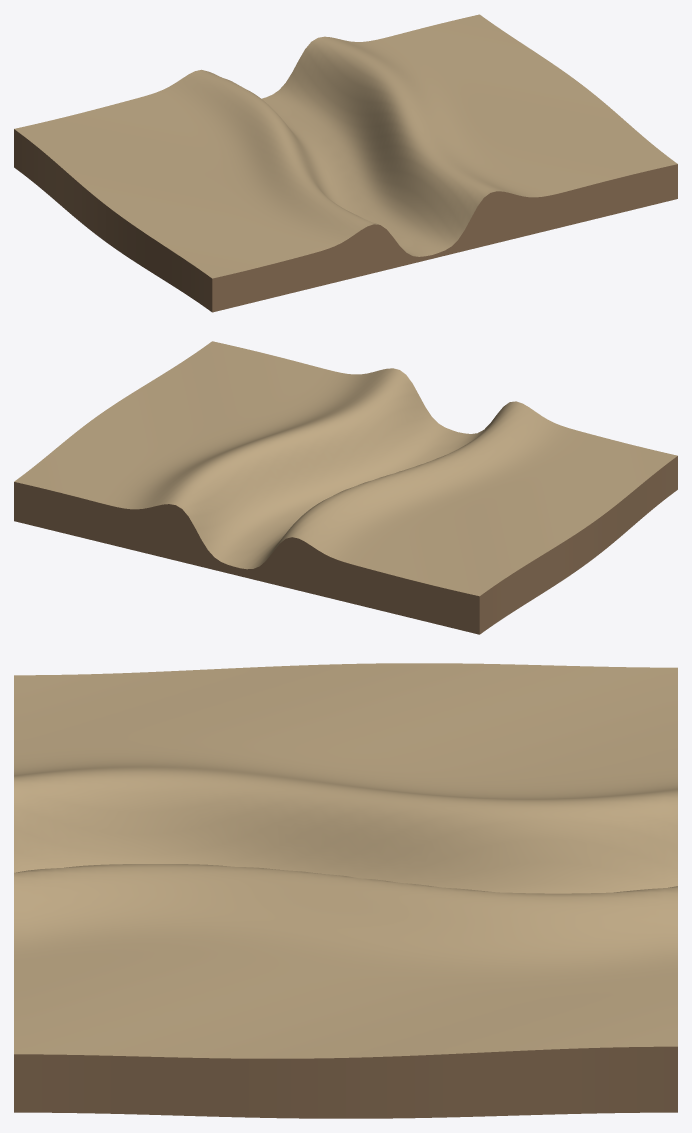
Rendered from natural-levee.glb.
3 views of the same model, one above another, from view 1: azimuth 30°, elevation 25°; view 2: azimuth 150°, elevation 25°; view 3: azimuth 270°, elevation 25° (orthographic). The views are drawn at different scales.
Visible parts, largest first — view 1: Continuous channel levees and backplain sediment crop; view 2: Continuous channel levees and backplain sediment crop; view 3: Continuous channel levees and backplain sediment crop.
Boxes of the visible parts, x1,y1,x2,y2 form: Continuous channel levees and backplain sediment crop: [14, 14, 677, 312]; Continuous channel levees and backplain sediment crop: [14, 341, 677, 634]; Continuous channel levees and backplain sediment crop: [14, 663, 677, 1118].
Bounding box in the file's own units: 14 × 1.58 × 10.
